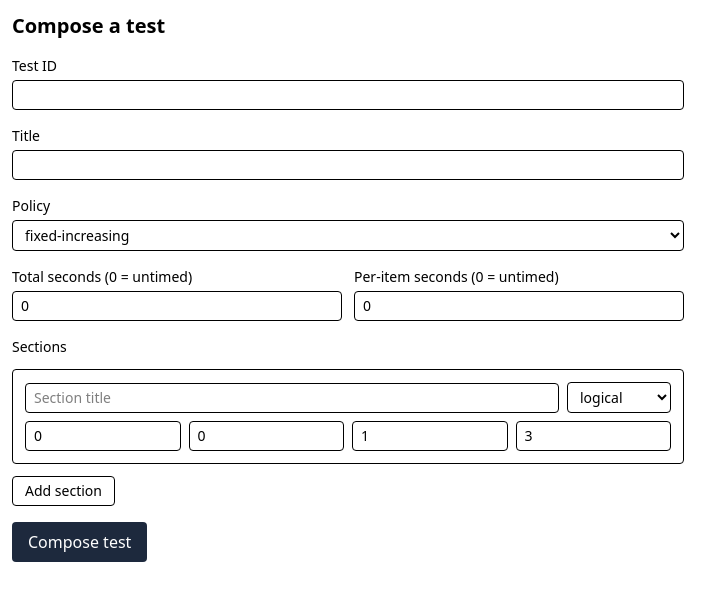
Test: Compose › blocks an adaptive test whose section spans a single band
The width and height of the screenshot is (701, 610).
In the field labelled "Test ID": [348, 95] box x1=12 y1=80 x2=684 y2=110, type "t1"
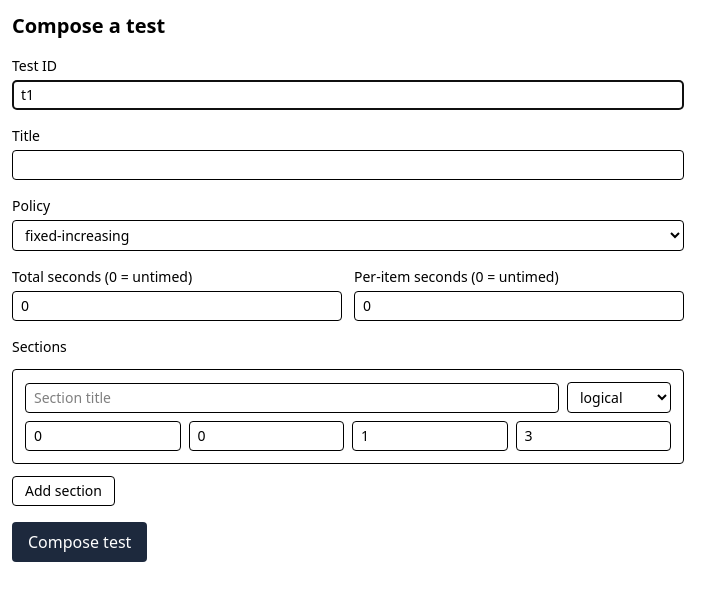
Select "adaptive" in the dropdown labelled "Policy": [348, 236] box x1=12 y1=220 x2=684 y2=251
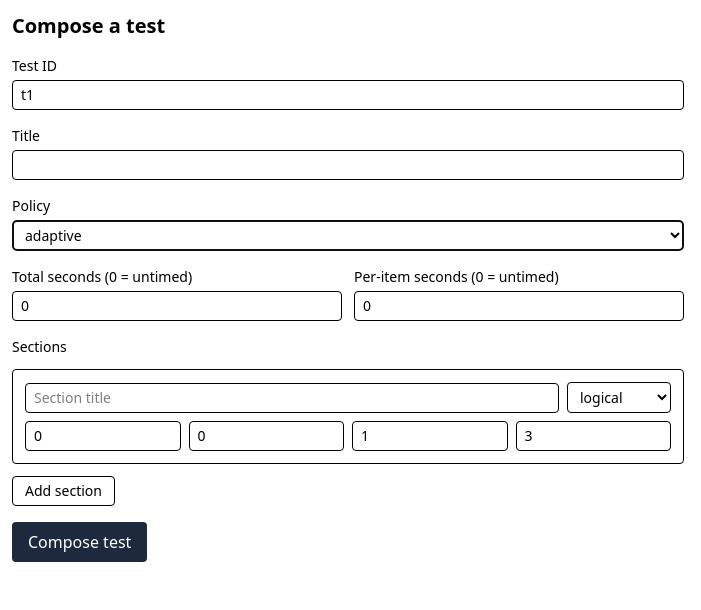
Replace the text in the number field named "section 1 max difficulty" with "1": [593, 436] box x1=516 y1=421 x2=671 y2=451
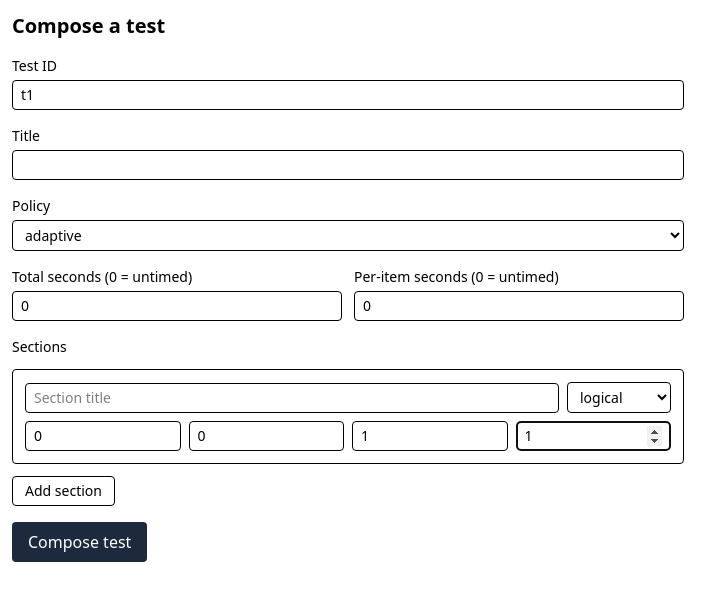
Click the button "Compose test": [80, 542] box x1=12 y1=522 x2=147 y2=562
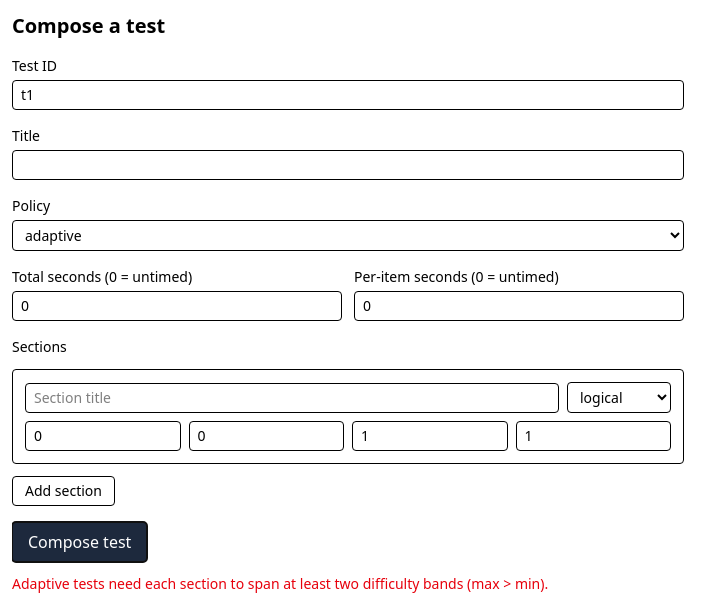
Now the text "two difficulty bands" is shown, box x1=12 y1=574 x2=548 y2=593
